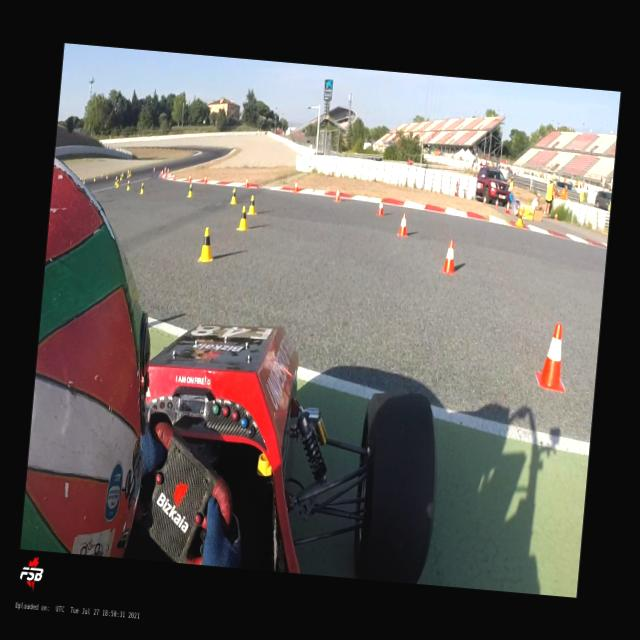orange_cone: (534, 322, 568, 390), (441, 239, 457, 274), (396, 212, 409, 238), (376, 198, 384, 216), (333, 186, 341, 202), (504, 200, 510, 213), (292, 180, 298, 192), (244, 175, 250, 187), (553, 210, 558, 220), (203, 174, 207, 184), (494, 198, 498, 208), (482, 196, 486, 206), (188, 173, 192, 182), (172, 172, 176, 180), (163, 172, 167, 180), (158, 171, 162, 178), (100, 172, 104, 178), (163, 166, 166, 172), (152, 166, 155, 172), (167, 167, 169, 173), (161, 169, 163, 174)
yellow_cone: (197, 226, 215, 262), (236, 204, 248, 230), (246, 194, 257, 214), (514, 208, 524, 226), (229, 188, 237, 205), (186, 182, 194, 198), (138, 182, 144, 194), (126, 180, 130, 191), (114, 177, 118, 186), (125, 169, 129, 178), (105, 171, 109, 180), (120, 170, 124, 178), (92, 174, 96, 182), (118, 173, 122, 180), (115, 179, 118, 188), (128, 170, 131, 178), (83, 178, 85, 184)
